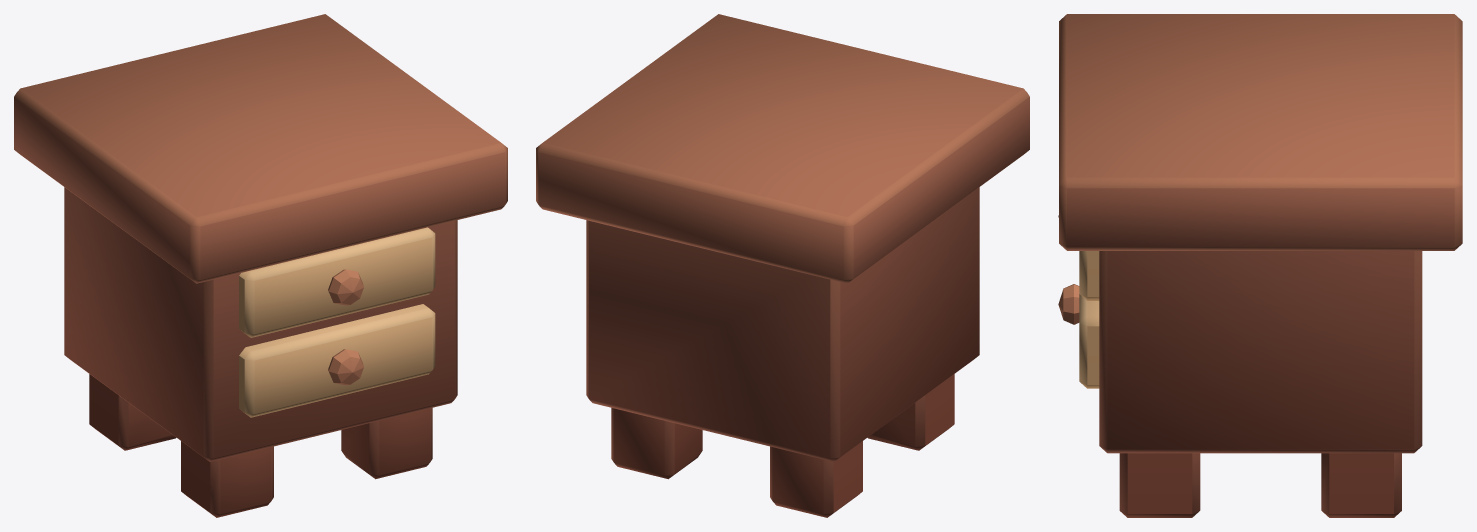
The model's file is cabinet_small.glb.
3 renders of one model, left to right at view 1: azimuth 30°, elevation 25°; view 2: azimuth 150°, elevation 25°; view 3: azimuth 270°, elevation 25°, orthographic. The views are drawn at different scales.
Parts seen in each view (by area): view 1: cabinet_small; view 2: cabinet_small; view 3: cabinet_small.
Part boxes in pixels (x1,y1,x2,y2): cabinet_small: [14, 14, 507, 517]; cabinet_small: [536, 14, 1029, 517]; cabinet_small: [1058, 14, 1462, 517].
Size of the model in its own units: 1 by 1 by 1.
Materials: 1 (1 with a texture image).
